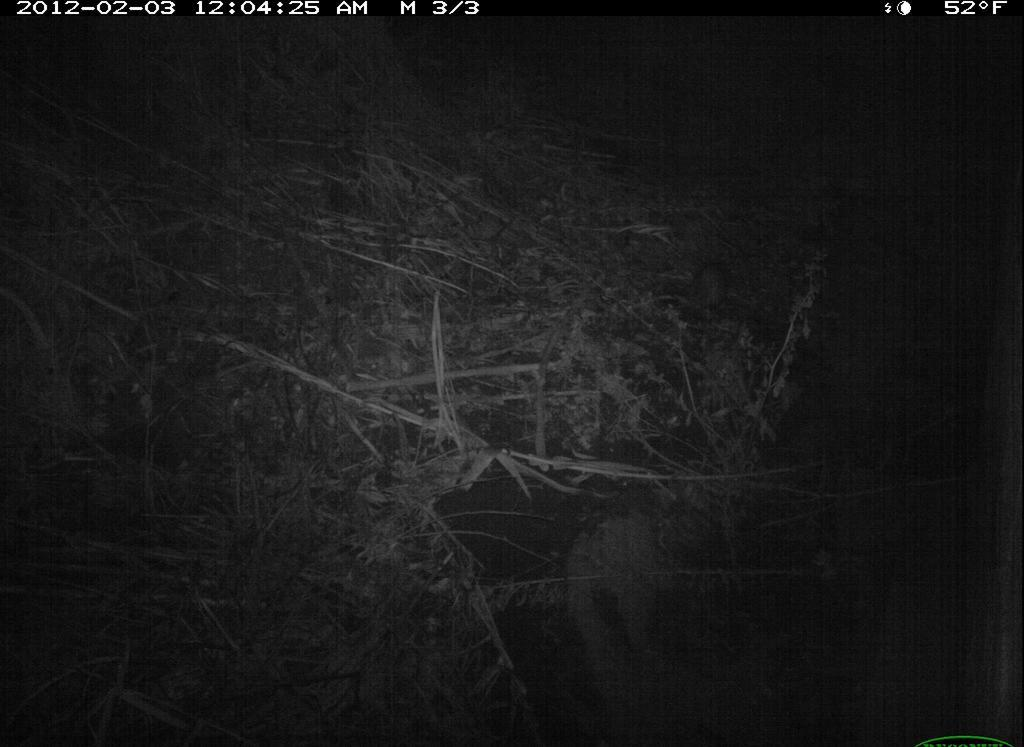opossum: (669, 250, 742, 332)
